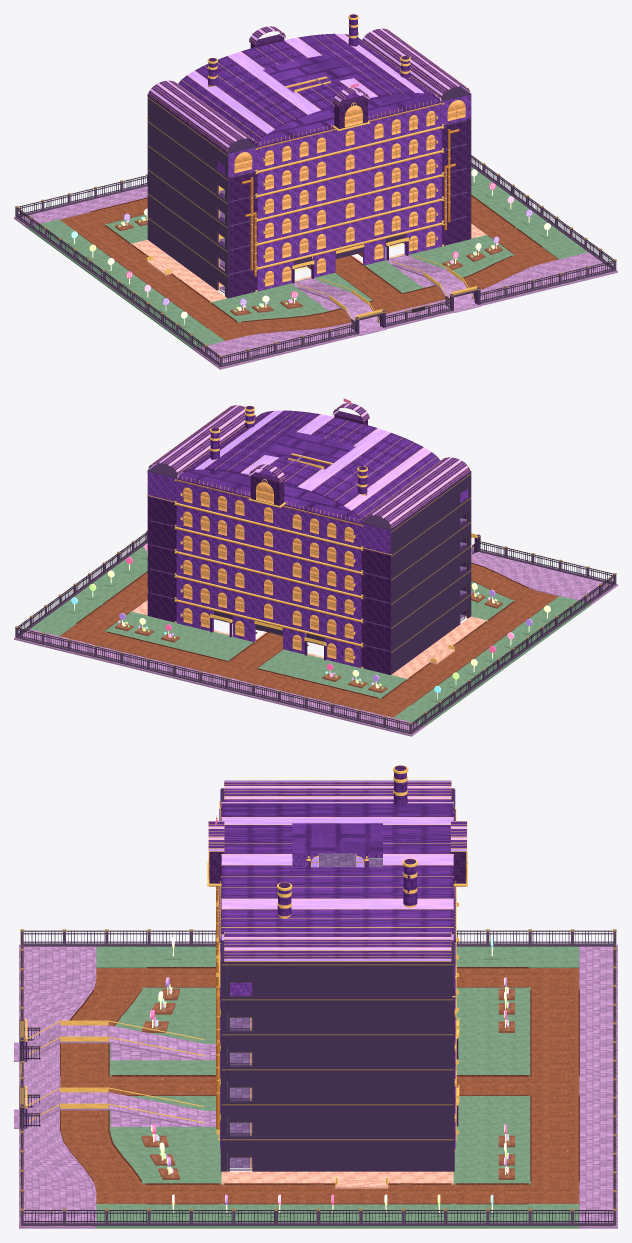
Rendered from Chocolate-River-World.glb.
3 views of the same model, one above another, from view 1: azimuth 30°, elevation 25°; view 2: azimuth 150°, elevation 25°; view 3: azimuth 270°, elevation 25° (orthographic). The views are drawn at different scales.
Parts seen in each view (by area): view 1: object 1, Game furniture and door frames; view 2: object 1, Game furniture and door frames; view 3: object 1, Game furniture and door frames.
Part boxes in pixels (bbox=[...]): object 1: bbox=[14, 14, 617, 369]; Game furniture and door frames: bbox=[15, 86, 616, 367]; object 1: bbox=[14, 398, 617, 736]; Game furniture and door frames: bbox=[15, 463, 616, 734]; object 1: bbox=[14, 765, 617, 1228]; Game furniture and door frames: bbox=[19, 788, 616, 1225].
Bounding box in the file's own units: 138 × 63.91 × 125.
64 materials, 19 textured.
